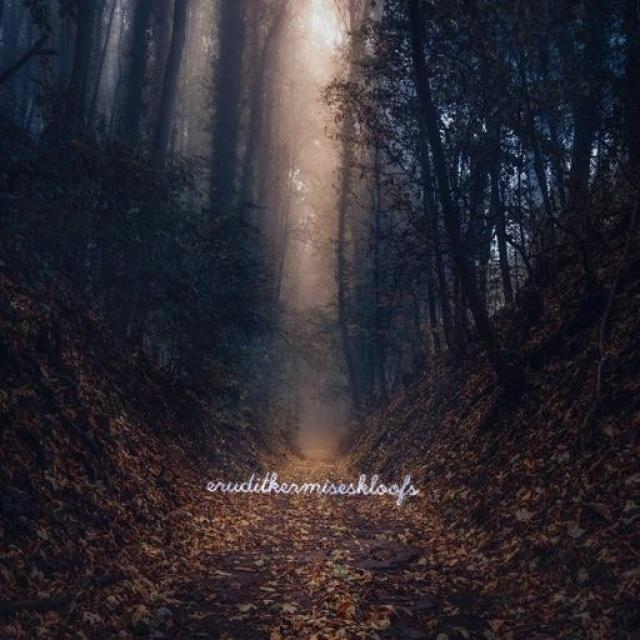watermark: (200, 469, 439, 498)
